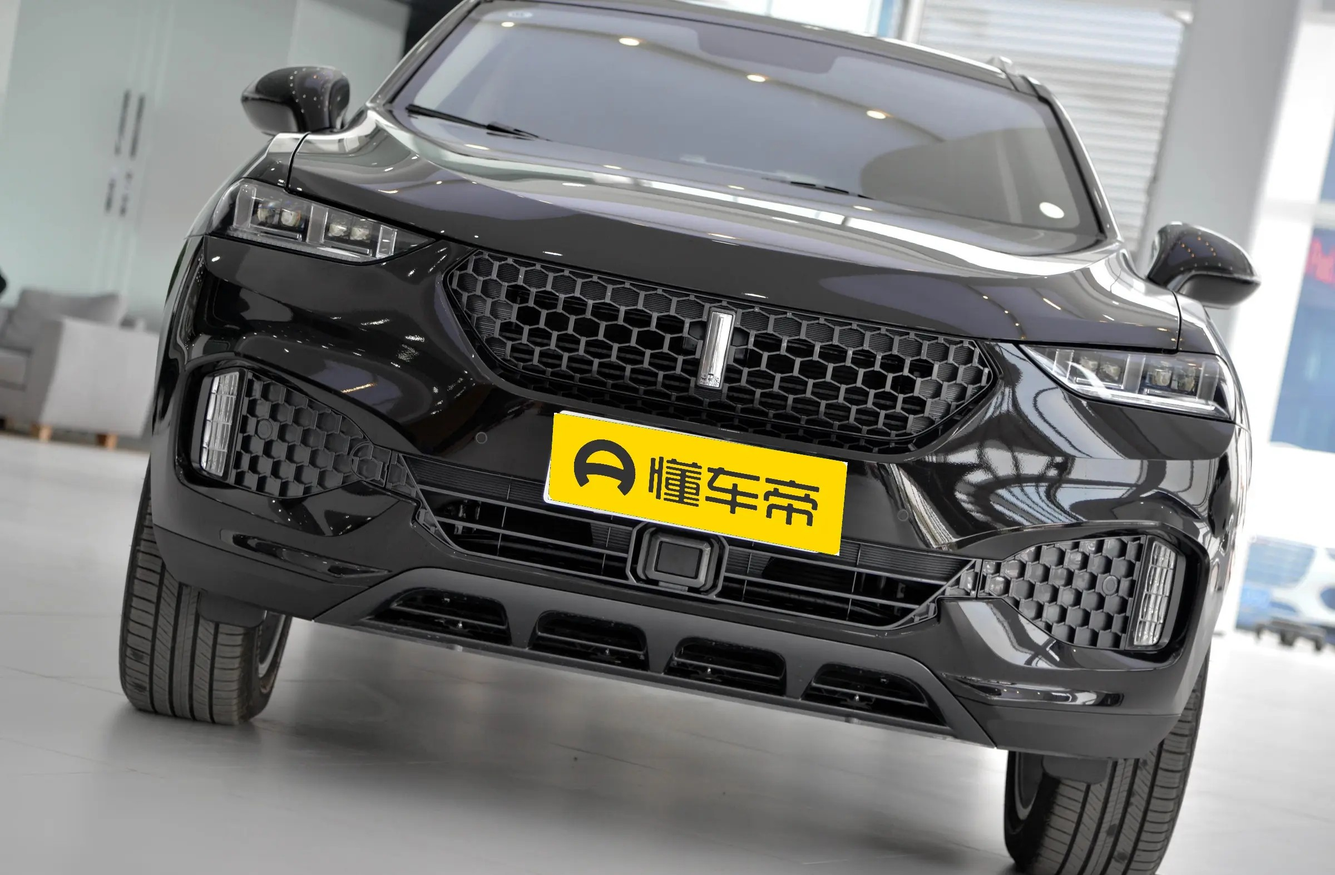WEY: (696, 308, 735, 389)
